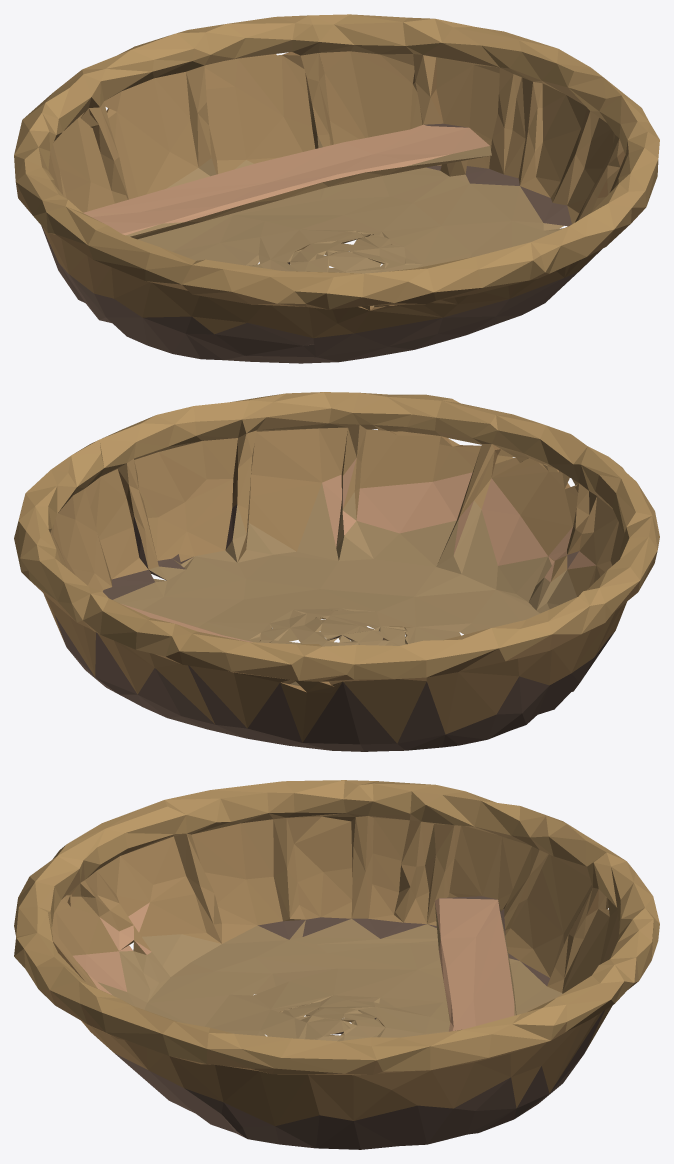
File: thuyen_thung.glb
The picture shows the model from 3 angles, top to bottom: view 1: azimuth 30°, elevation 25°; view 2: azimuth 150°, elevation 25°; view 3: azimuth 270°, elevation 25°; orthographic projection.
Parts seen in each view (by area): view 1: ThuyenThung; view 2: ThuyenThung; view 3: ThuyenThung.
Boxes of the visible parts, x1,y1,x2,y2 form: ThuyenThung: (14, 14, 659, 363); ThuyenThung: (14, 392, 659, 751); ThuyenThung: (14, 780, 659, 1149).
Size of the model in its own units: 2.4 by 0.535 by 2.4.
